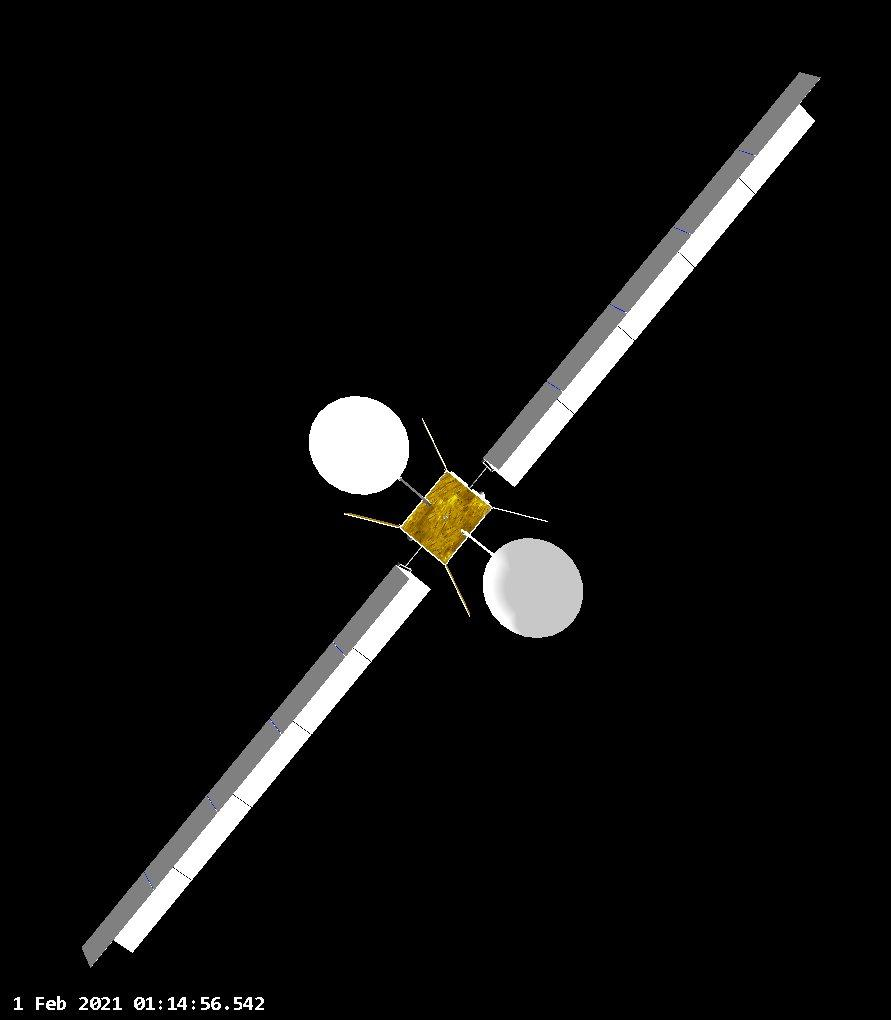antenna: (482, 533, 584, 641), (309, 394, 411, 497)
body: (395, 463, 495, 567)
solar: (82, 559, 434, 970), (482, 70, 824, 488)
